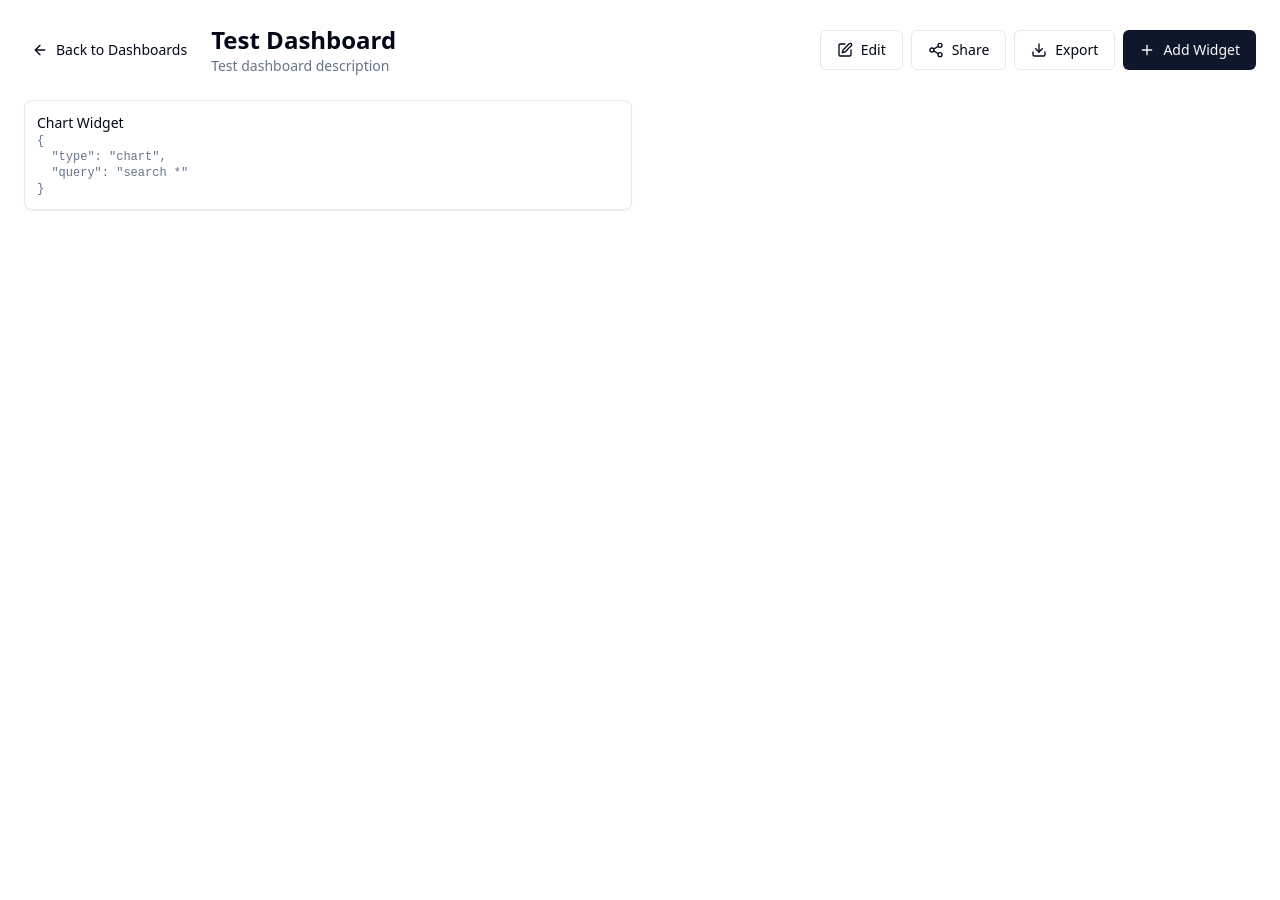
Test: Dashboard Sharing › opens share modal when share button is clicked
Expected: the heading "Test Dashboard" is shown, [211,24,396,56]
Click the button "Share" at point(958, 50), box [911,30,1006,70]
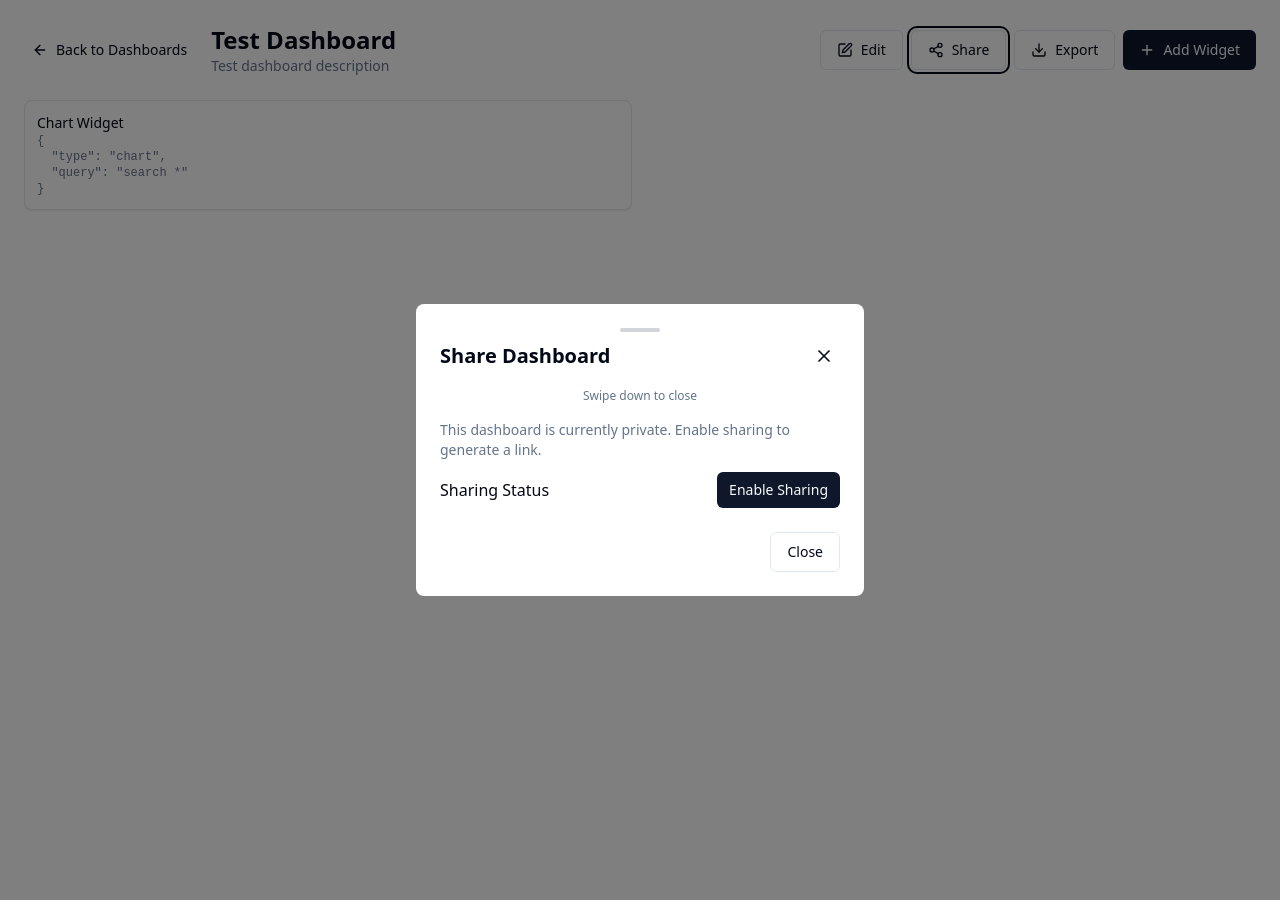
Expected: the heading "Share Dashboard" is shown, [440,342,610,370]
Expected: the text "This dashboard is currently private. Enable sharing to generate a link." is shown, [440,420,840,460]
